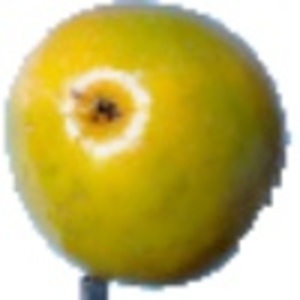maracujá: (4, 1, 294, 300)
